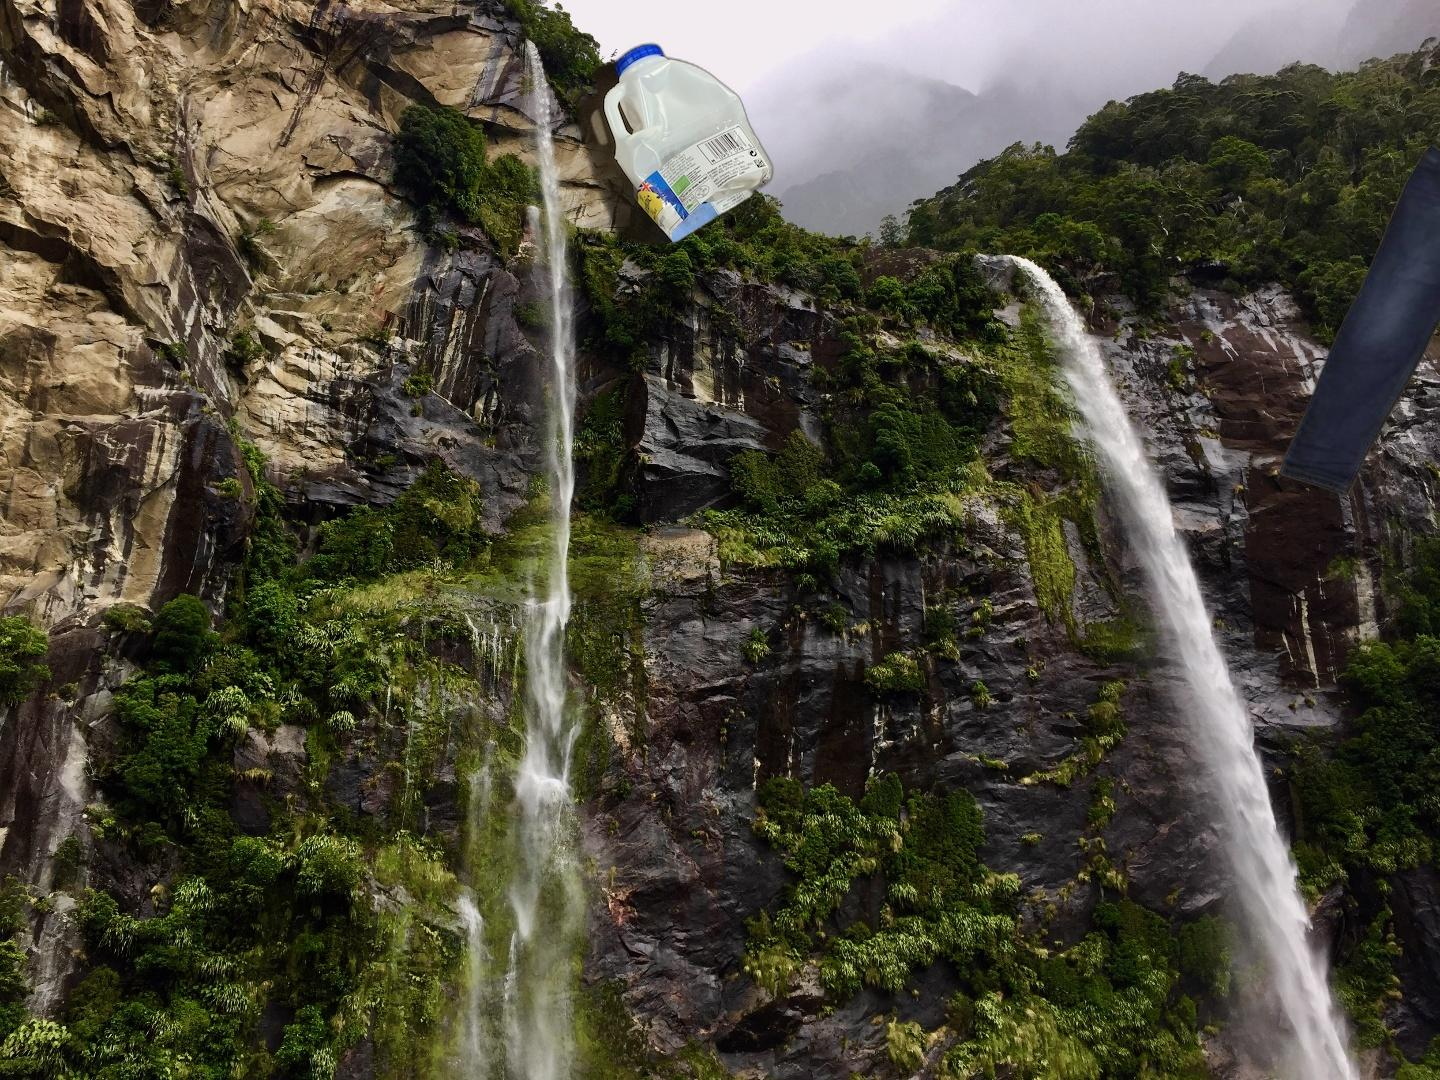clothes: (1274, 140, 1440, 516)
plastic-bottles: (571, 37, 776, 252)
